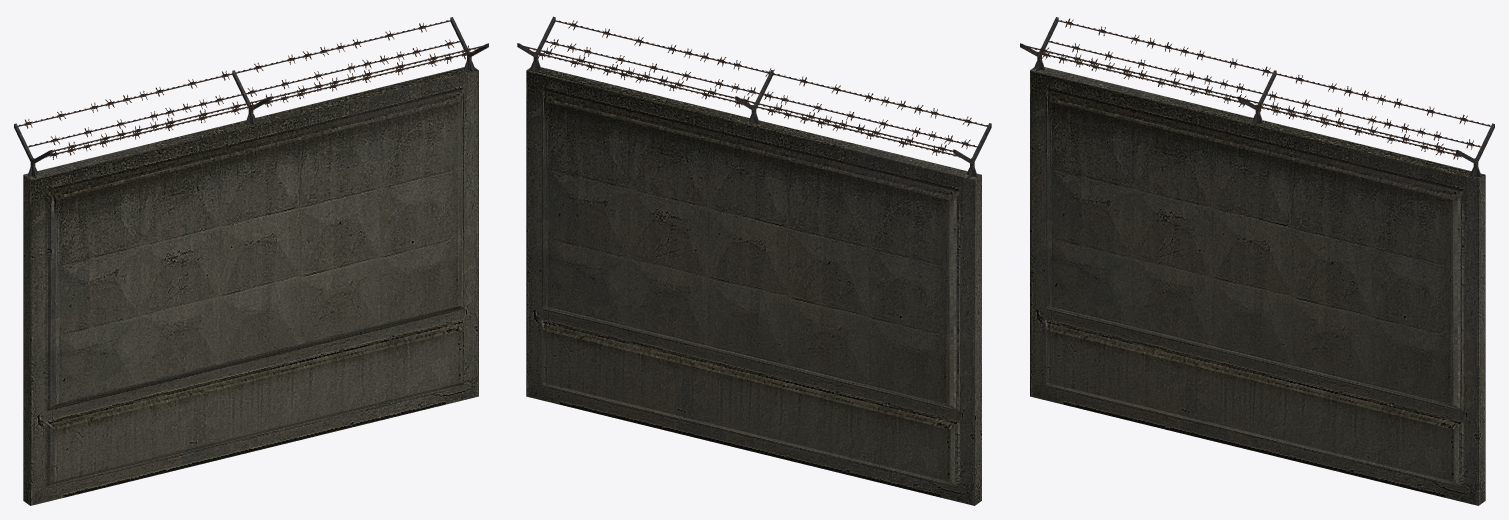
The model's file is concrete_fence_hr_2.glb.
3 views of the same model, side by side, from view 1: azimuth 30°, elevation 25°; view 2: azimuth 150°, elevation 25°; view 3: azimuth 330°, elevation 25° (orthographic).
Visible parts, largest first — view 1: concrete_fence_hr_2; view 2: concrete_fence_hr_2; view 3: concrete_fence_hr_2.
Boxes of the visible parts, x1,y1,x2,y2 form: concrete_fence_hr_2: (14, 17, 488, 505); concrete_fence_hr_2: (517, 16, 991, 505); concrete_fence_hr_2: (1020, 17, 1494, 505).
Size of the model in its own units: 3.6 by 2.82 by 0.5551.
3 materials, 3 textured.
